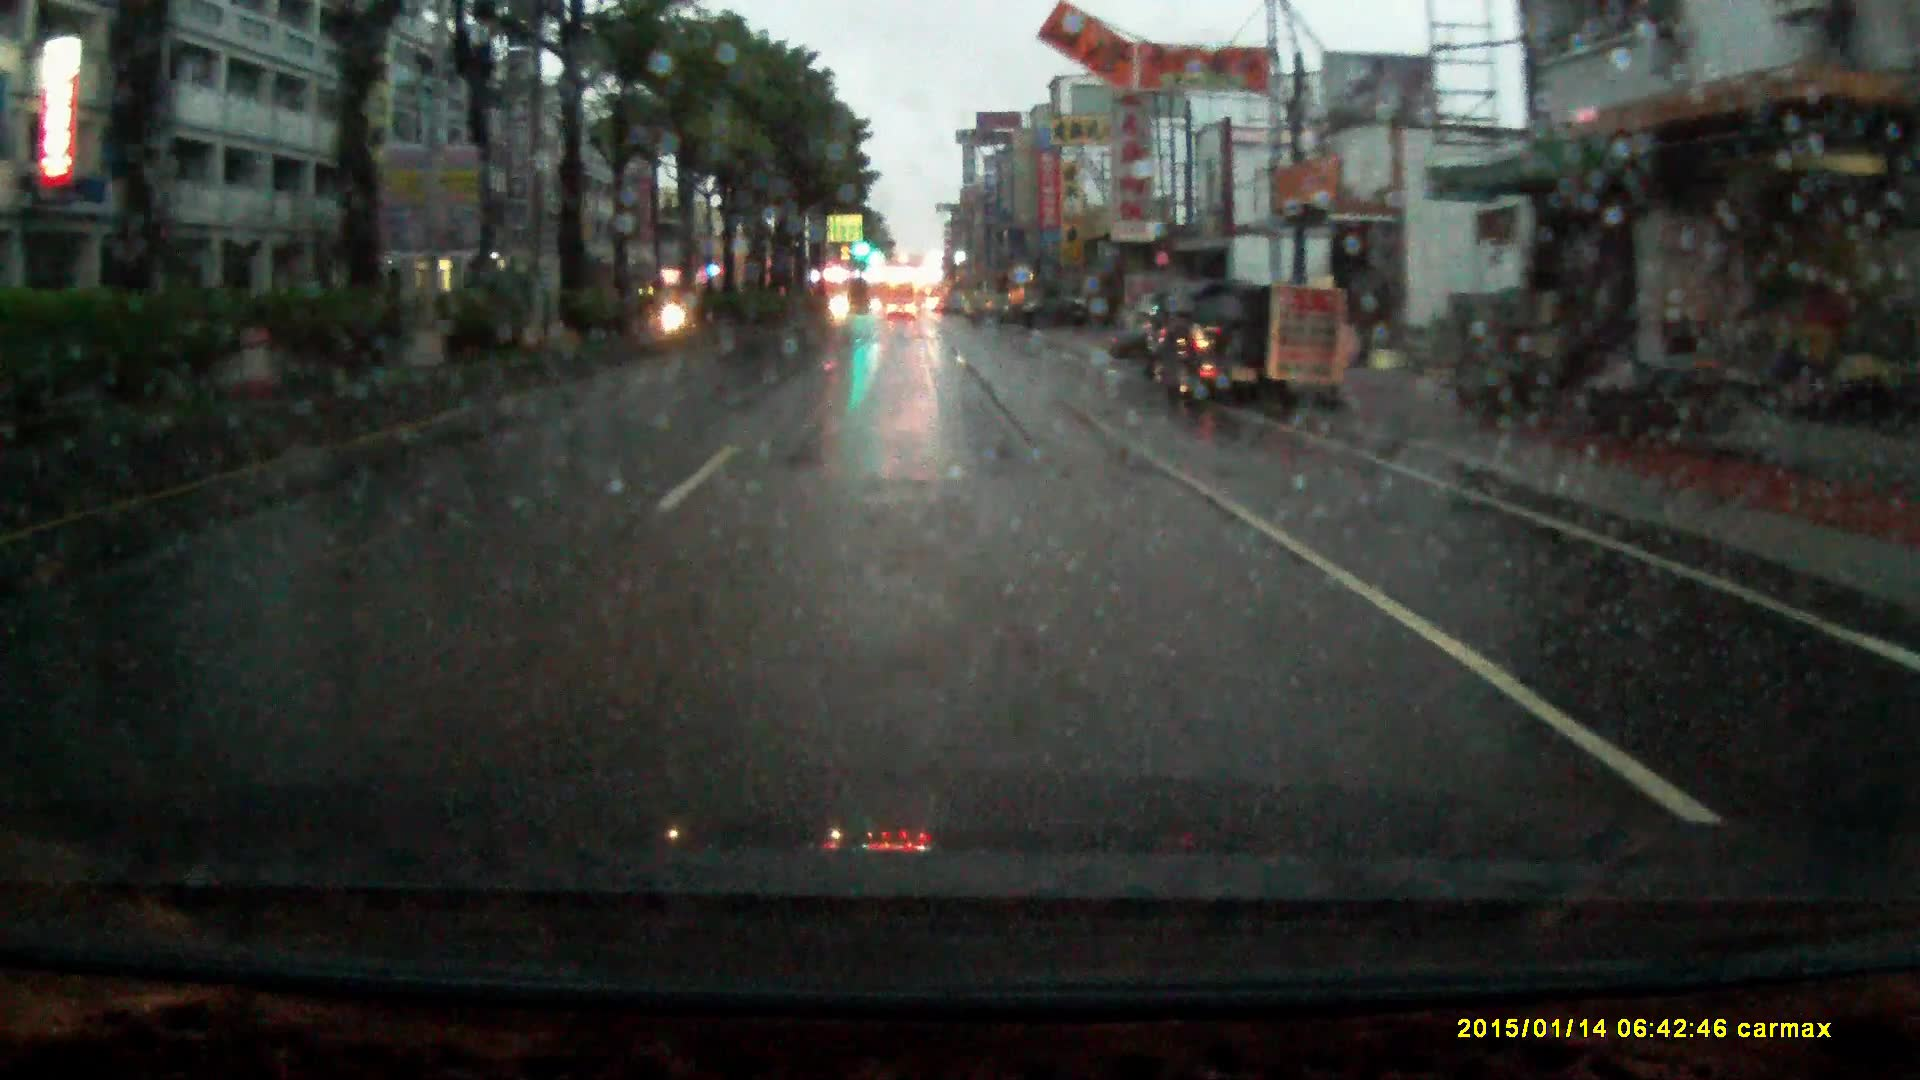vehicle: (1145, 268, 1315, 401), (887, 287, 918, 313)
